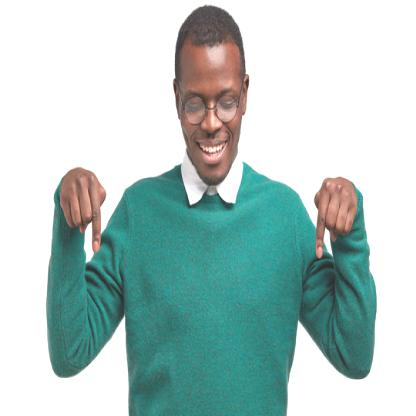Down: (52, 146, 116, 275), (306, 164, 364, 277)
